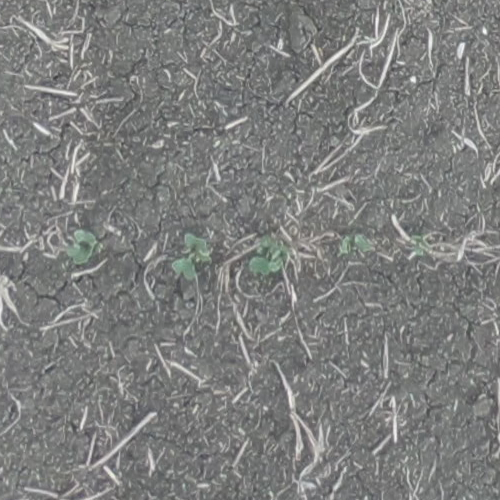isolated: (172, 233, 207, 279), (251, 237, 288, 276), (67, 228, 96, 263), (340, 235, 373, 254), (413, 234, 424, 255)
